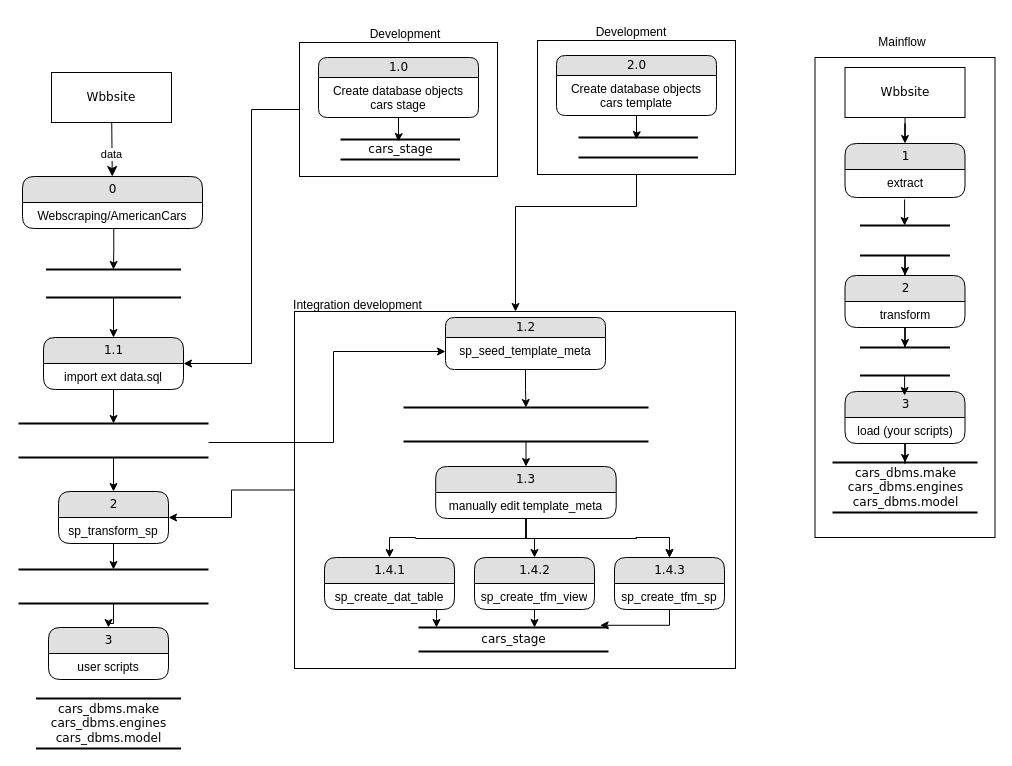
Image size: 1012x766. Some labels were removed from this diagram. The shapes that lost their labels are listed below. From the top down, each one's centre as x and y in pixels, then its label:
(x=637, y=147): cars_template
(x=904, y=240): cars_stage.ext
(x=113, y=283): .csv
(x=904, y=361): cars_stage.dat
(x=113, y=440): cars_stage.ext_american_cars
(x=525, y=424): cars_template.sp_seed_template_meta
(x=113, y=586): cars_stage.dat_american_cars
